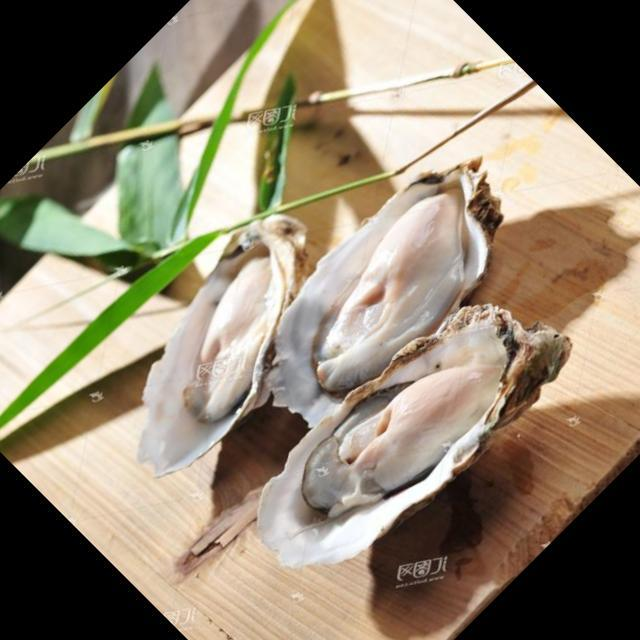Oyster-Open: (223, 249, 591, 617), (221, 127, 546, 452), (69, 180, 374, 485)
